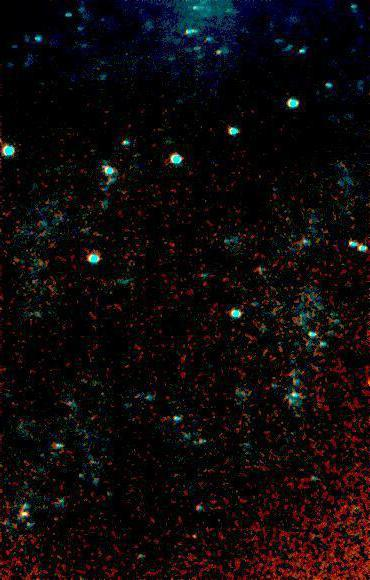star: (181, 526, 211, 556)
